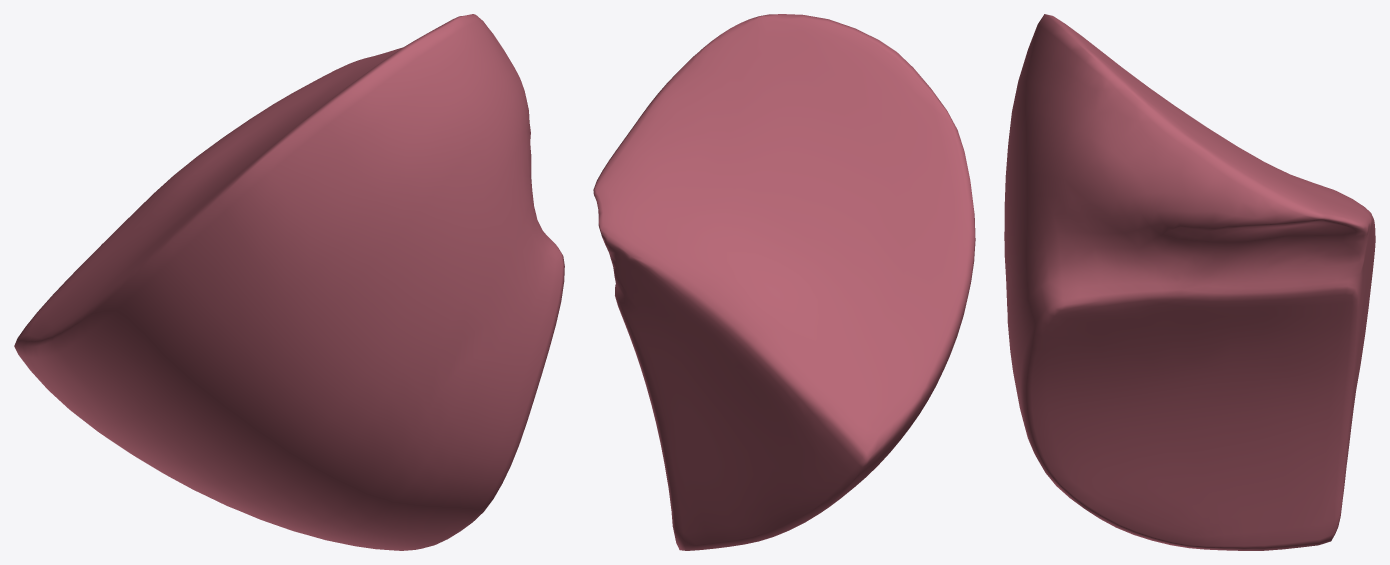
The picture shows the model from 3 angles, left to right: view 1: azimuth 30°, elevation 25°; view 2: azimuth 150°, elevation 25°; view 3: azimuth 270°, elevation 25°; orthographic projection. The views are drawn at different scales.
Parts seen in each view (by area): view 1: 肝右前叶上段（第8段）; view 2: 肝右前叶上段（第8段）; view 3: 肝右前叶上段（第8段）.
Part boxes in pixels (x1,y1,x2,y2): 肝右前叶上段（第8段）: [14, 14, 564, 550]; 肝右前叶上段（第8段）: [593, 14, 975, 550]; 肝右前叶上段（第8段）: [1004, 14, 1375, 550].
Bounding box in the file's own units: 0.1318 × 0.1784 × 0.1174.
